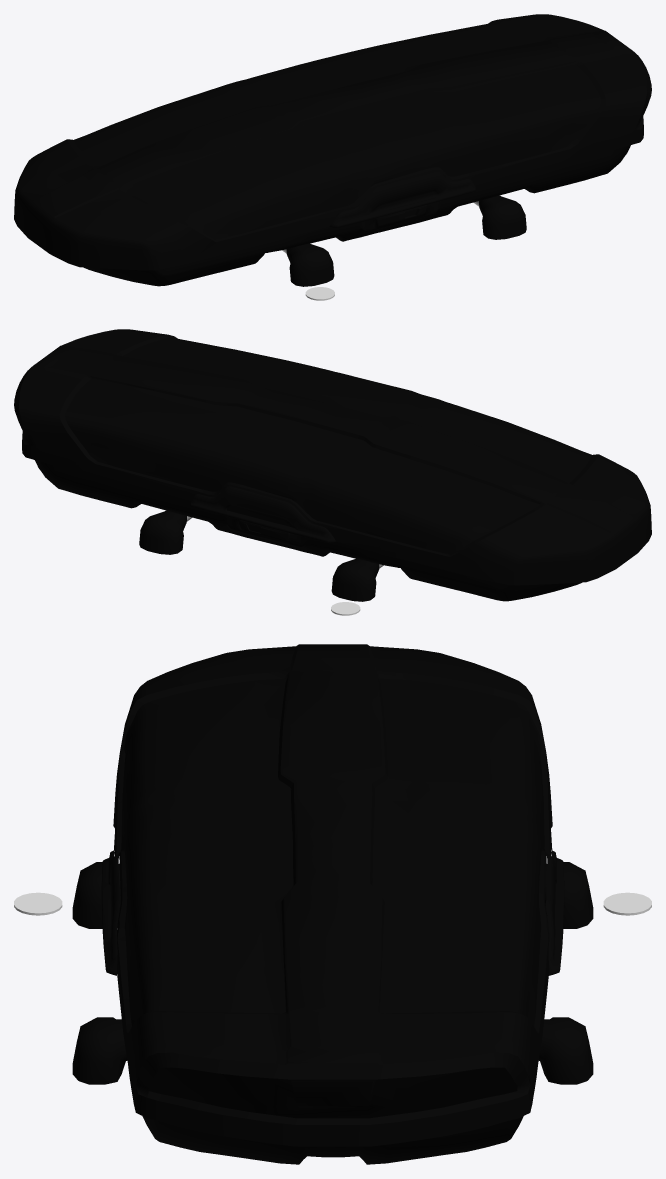
File: -----Motion XT Alpine 629500-LP.glb
3 views of the same model, one above another, from view 1: azimuth 30°, elevation 25°; view 2: azimuth 150°, elevation 25°; view 3: azimuth 270°, elevation 25° (orthographic). The views are drawn at different scales.
Parts seen in each view (by area): view 1: Thule_motion_XT_Alpine_low, Box013, Box011; view 2: Thule_motion_XT_Alpine_low, Box012, Box010; view 3: Thule_motion_XT_Alpine_low, Box013, Box012, Box011, Box010, Cylinder003, Cylinder004.
Part boxes in pixels (box(x1,y1,x2,y2)): Thule_motion_XT_Alpine_low: box(14, 14, 651, 286); Box013: box(479, 195, 526, 239); Box011: box(286, 243, 334, 286); Thule_motion_XT_Alpine_low: box(14, 329, 651, 601); Box012: box(139, 510, 186, 554); Box010: box(331, 558, 379, 601); Thule_motion_XT_Alpine_low: box(101, 644, 564, 1164); Box013: box(72, 1017, 127, 1084); Box012: box(538, 1017, 593, 1084); Box011: box(72, 862, 120, 928); Box010: box(545, 862, 593, 928); Cylinder003: box(14, 892, 62, 915); Cylinder004: box(603, 892, 651, 915).
Bounding box in the file's own units: 2.28 × 0.3912 × 1.3.
4 materials, 2 textured.
